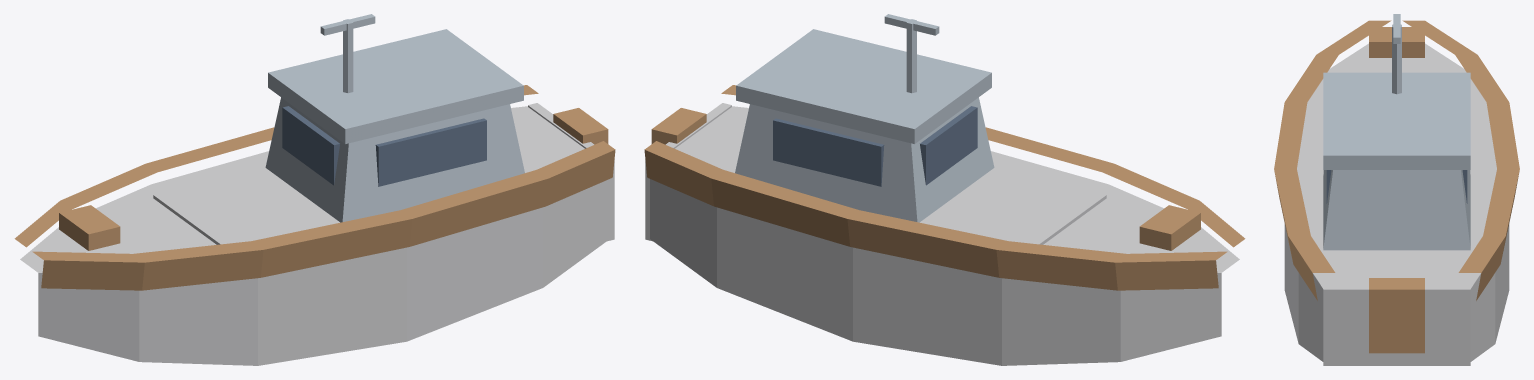
The model's file is boat.glb.
The picture shows the model from 3 angles, left to right: view 1: azimuth 30°, elevation 25°; view 2: azimuth 150°, elevation 25°; view 3: azimuth 270°, elevation 25°; orthographic projection. The views are drawn at different scales.
Parts seen in each view (by area): view 1: bt, bc, trim, bwin; view 2: bt, bc, trim, bwin; view 3: bc, bt, trim, bwin.
Boxes of the visible parts, x1,y1,x2,y2 form: bt: (20,103,614,365); bc: (265,14,524,222); trim: (14,85,615,290); bwin: (282,106,486,186); bt: (645,103,1239,365); bc: (735,14,994,222); trim: (644,85,1245,290); bwin: (773,106,977,186); bc: (1323,14,1470,250); bt: (1284,43,1509,365); trim: (1274,20,1519,353); bwin: (1326,170,1467,203).
Size of the model in its own units: 1.77 by 0.83 by 0.7.
